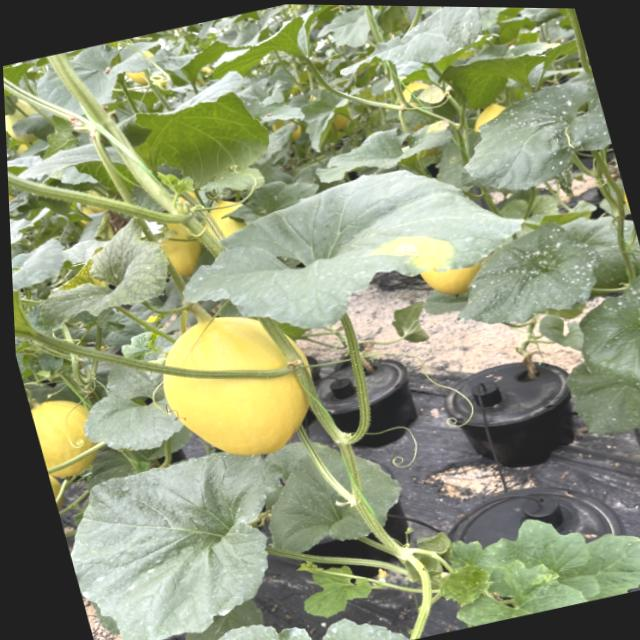alternaria leaf blight: (26, 222, 193, 332), (314, 111, 467, 192)
downy mildew: (48, 433, 321, 640), (413, 6, 576, 43), (312, 604, 429, 640), (171, 612, 319, 640)
healthy: (155, 166, 456, 359), (118, 64, 272, 193), (66, 358, 189, 463), (450, 557, 598, 630), (448, 31, 586, 101), (222, 7, 346, 79), (19, 133, 135, 201)
powdery mildew: (438, 68, 621, 206), (437, 199, 611, 337), (564, 261, 640, 409)
